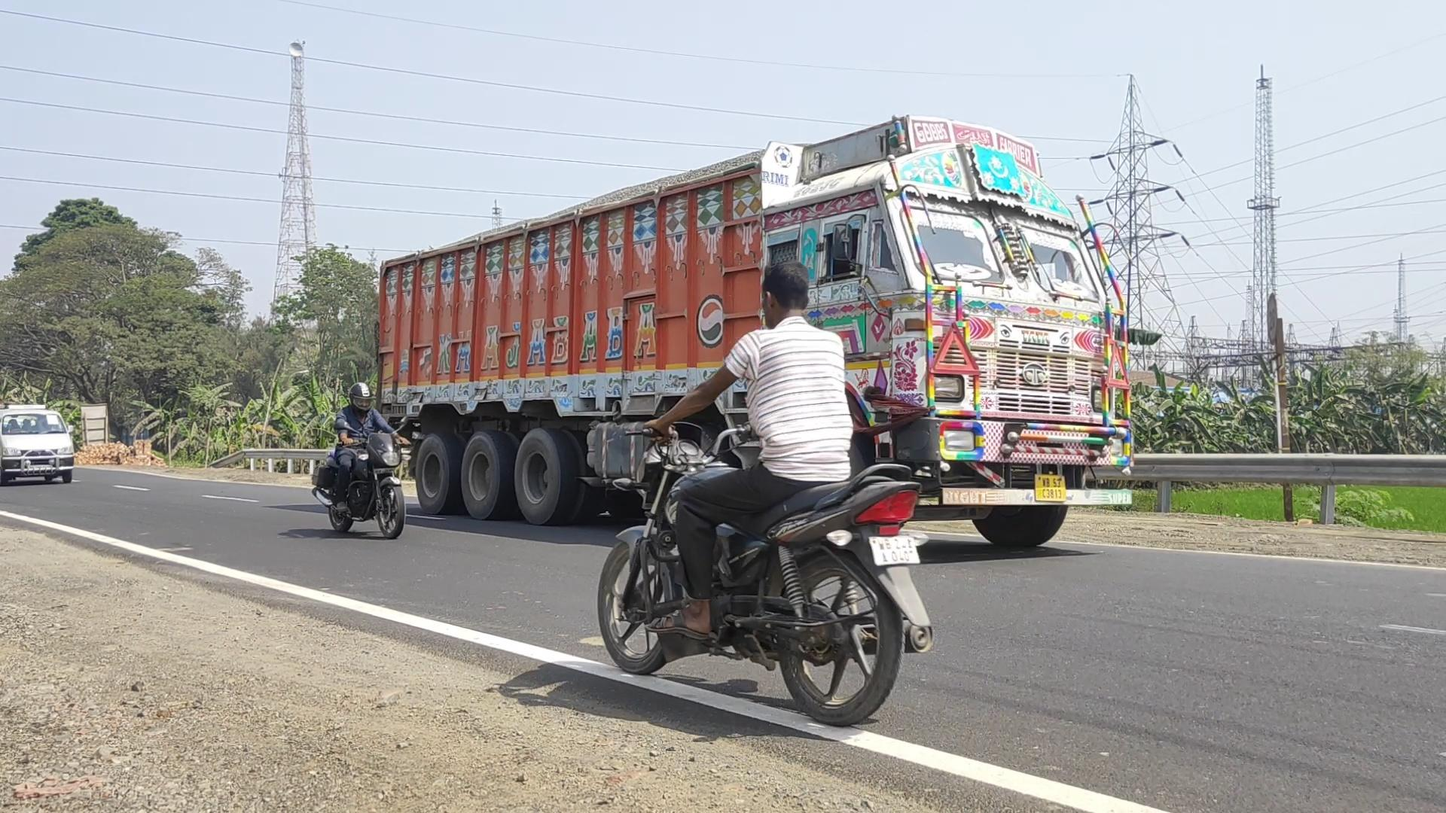bike: (597, 257, 933, 727), (311, 382, 409, 539)
truck: (373, 113, 1131, 550)
van: (1, 406, 75, 488)
